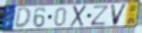0: (54, 6, 69, 27)
6: (33, 6, 47, 29)
D: (13, 7, 32, 30)
V: (109, 3, 129, 27)
X: (69, 4, 88, 28)
Z: (90, 4, 111, 27)
